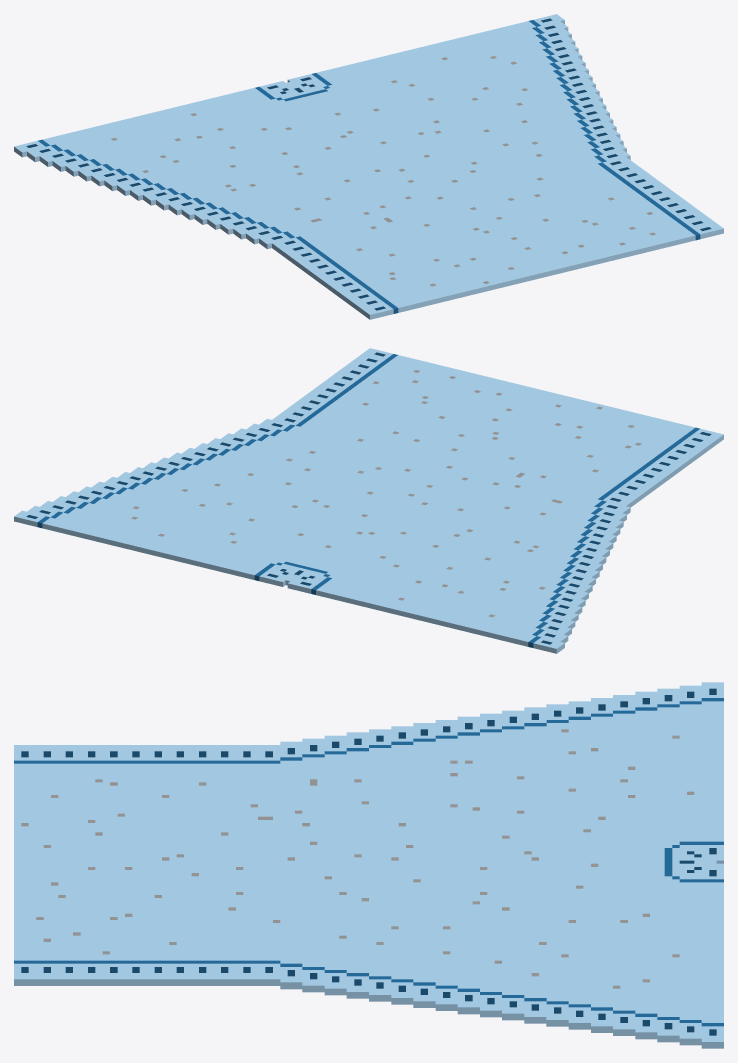
The model's file is Split_0-2.obj.
The picture shows the model from 3 angles, top to bottom: view 1: azimuth 30°, elevation 25°; view 2: azimuth 150°, elevation 25°; view 3: azimuth 270°, elevation 25°; orthographic projection. The views are drawn at different scales.
Visible parts, largest first — view 1: Split_0-2; view 2: Split_0-2; view 3: Split_0-2.
Boxes of the visible parts, left/top/right/bottom form: Split_0-2: left=14, top=14, right=723, bottom=319; Split_0-2: left=14, top=348, right=723, bottom=653; Split_0-2: left=14, top=682, right=723, bottom=1048.
Bounding box in the file's own units: 115 × 1 × 96.
1 material, 1 textured.
